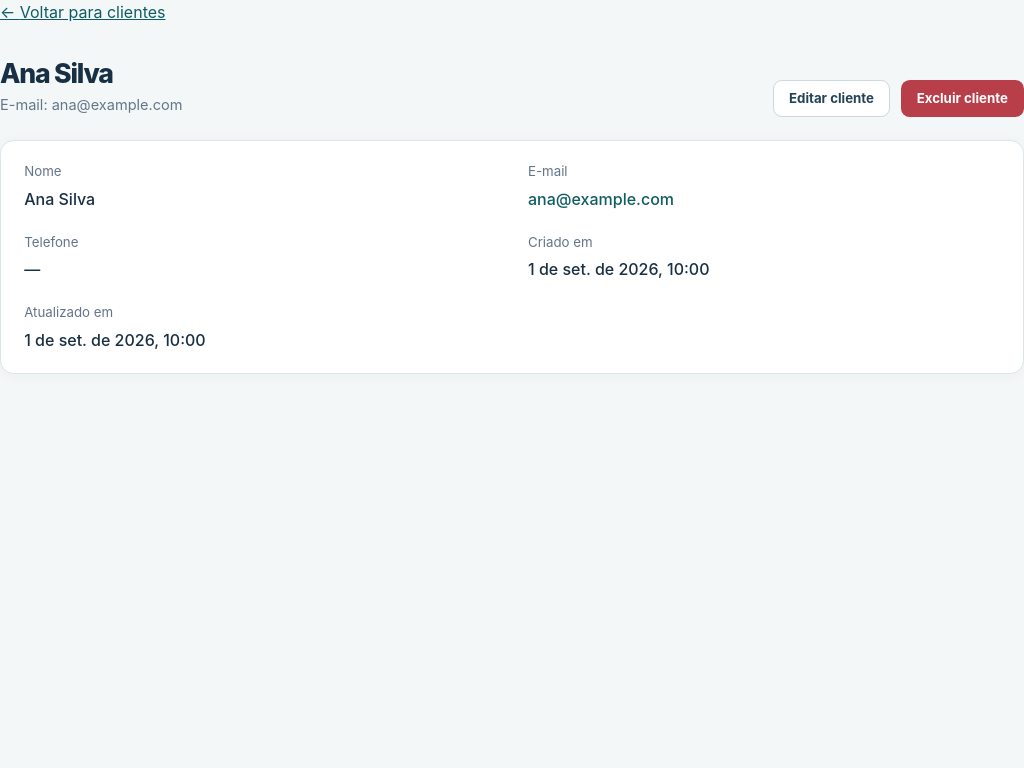
it: CustomersPage › shows a related-record conflict after a failed admin deletion
The image size is (1024, 768).
Expected: the heading "Ana Silva" is shown, [0,57,113,89]
Click the button "Excluir cliente" at point(962, 99), box [900,80,1023,117]
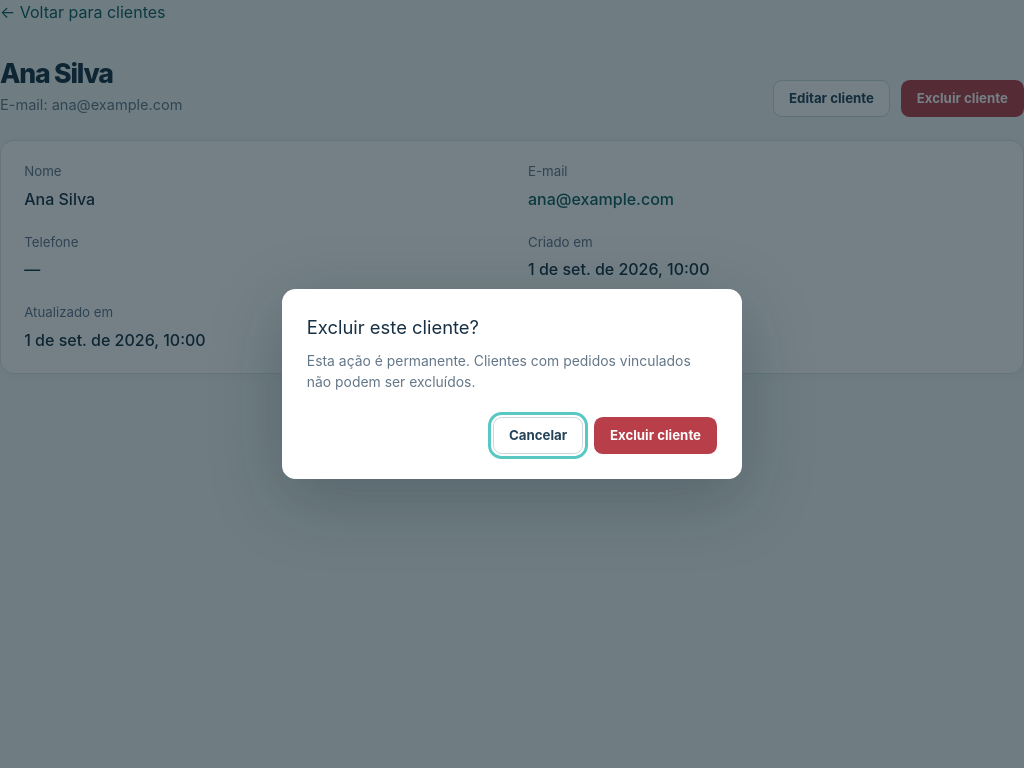
Result: the dialog is shown at [282,289,742,479]
Click the button "Excluir cliente" at point(656, 436), box [594,417,717,454]
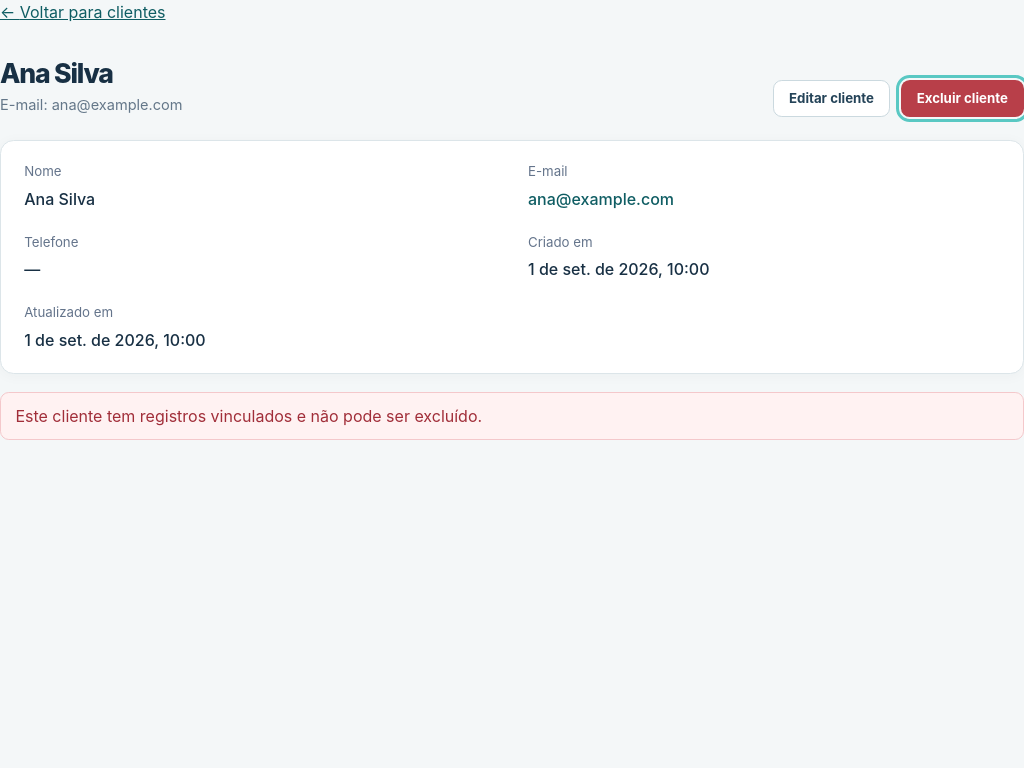
Result: the message shows "Este cliente tem registros vinculados" at [15,406,482,426]
Result: the dialog is gone
